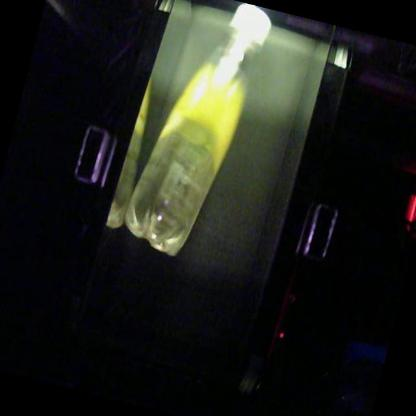Plastic Bottle: (125, 6, 272, 256)
